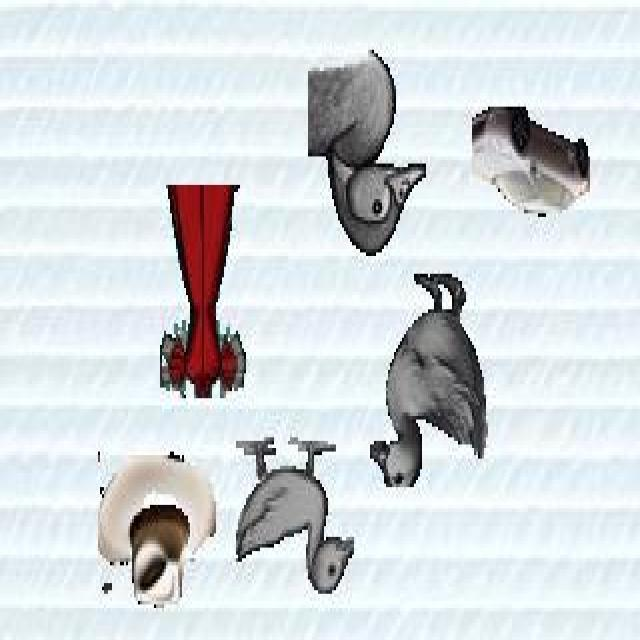Other Objects: (368, 274, 488, 490), (308, 48, 429, 258), (235, 437, 355, 598), (96, 451, 217, 610), (159, 185, 247, 403)
